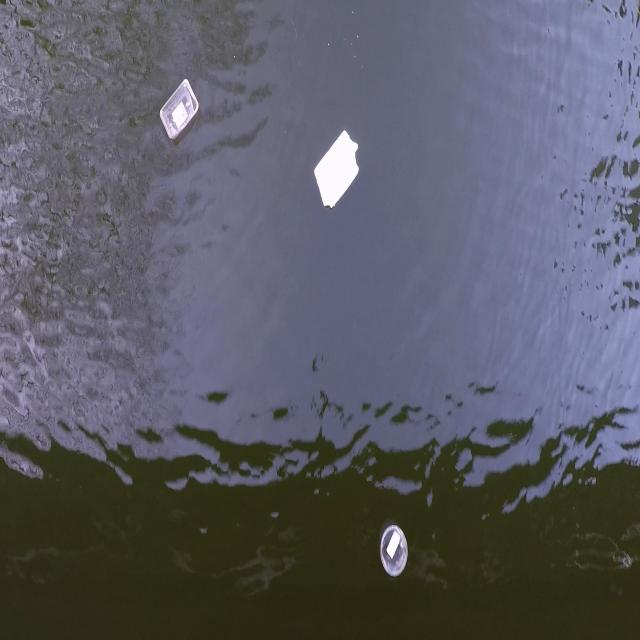Autre plastique: (157, 74, 204, 148), (378, 522, 413, 582)
